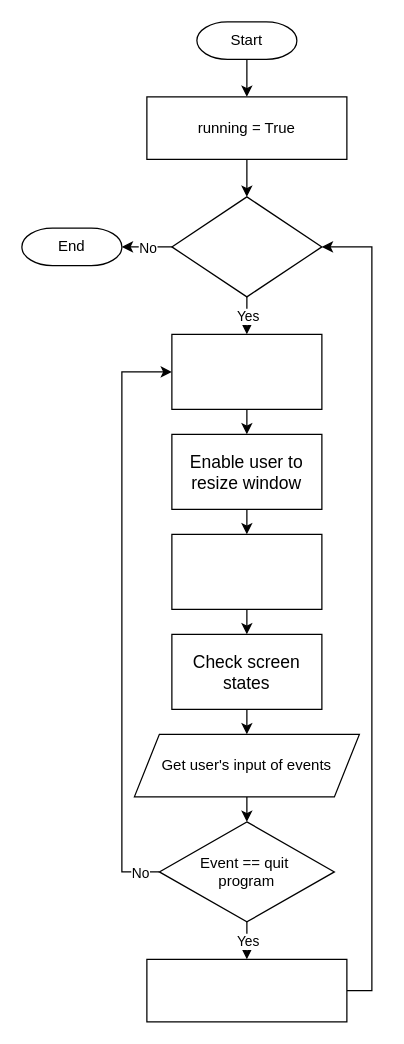
Image size: 404x1044. Some labels were removed from this diagram. Here are the shapes that lost their labels. From the top down, the centre of each, then its label:
[246,246]: running == True
[246,371]: Set framerate to 60
[246,571]: Check audio
[246,990]: running = False
